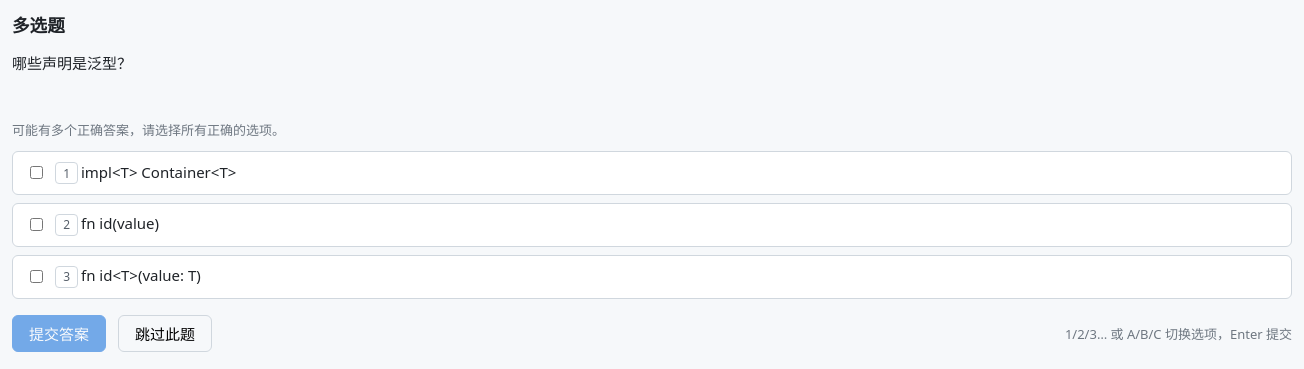
MultiChoice › skips without requiring a selection when allowSkip is set
The image size is (1304, 369).
Check: the button "提交答案" is disabled, box [12,315,106,352]
Click the button "跳过此题".
click(165, 333)  # box [118,315,212,352]
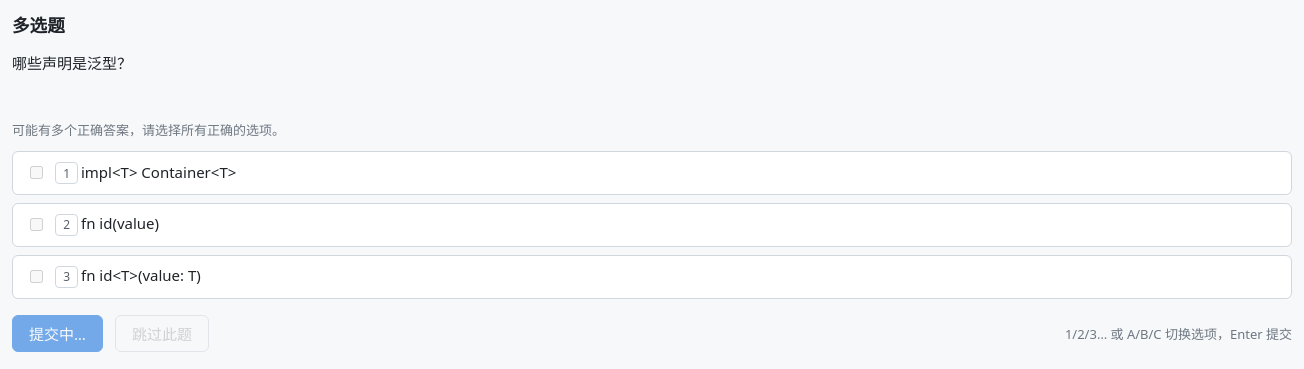
Check: the button "跳过此题" is disabled, box [115,315,209,352]
